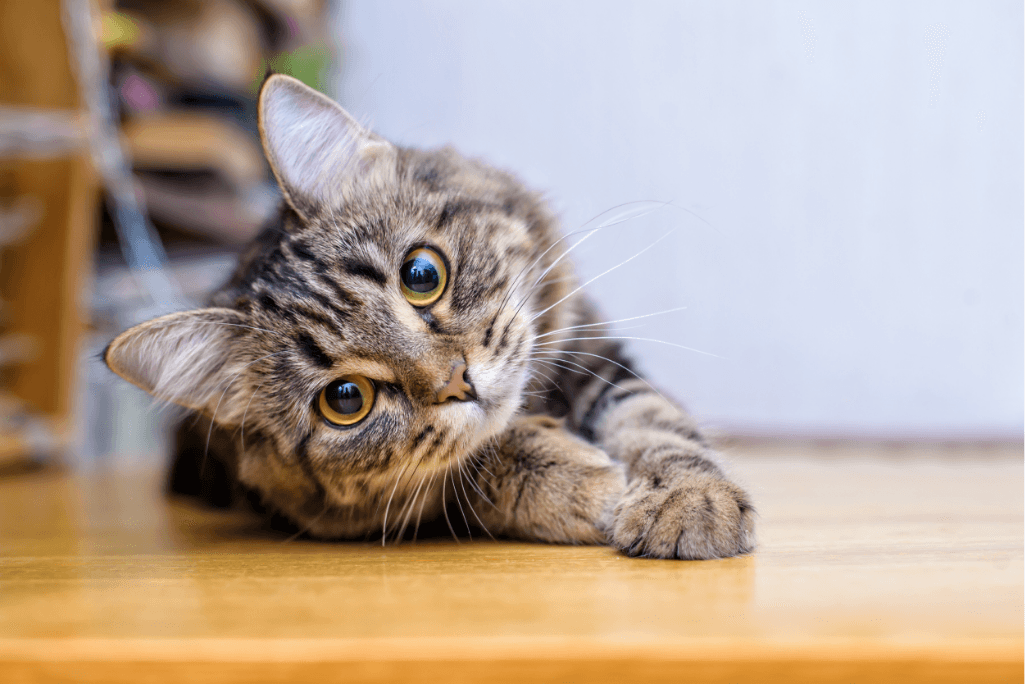Cat: (77, 67, 771, 569)
